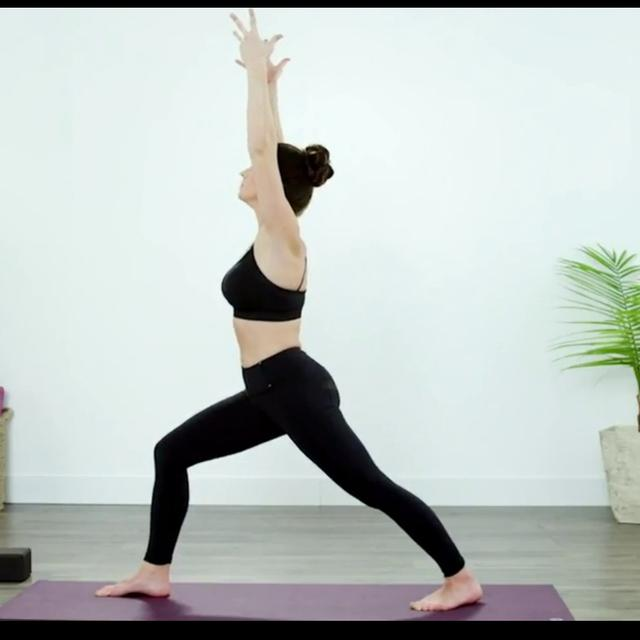Warrior_I: (92, 13, 494, 619)
